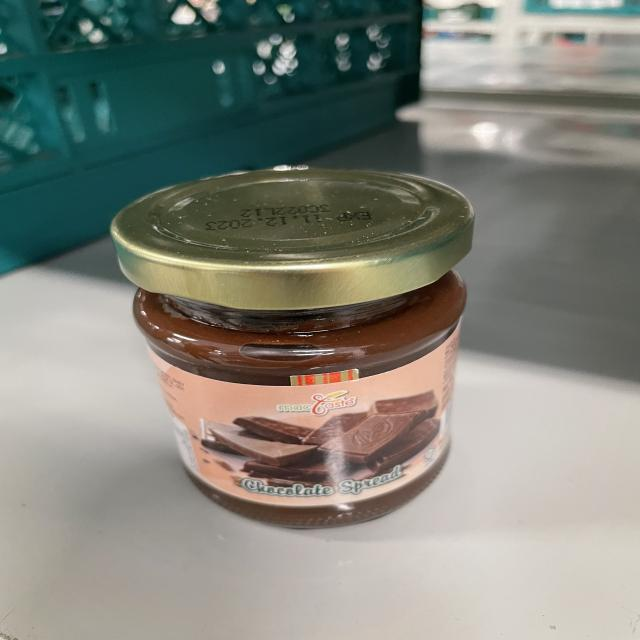object_name: (112, 178, 460, 516)
